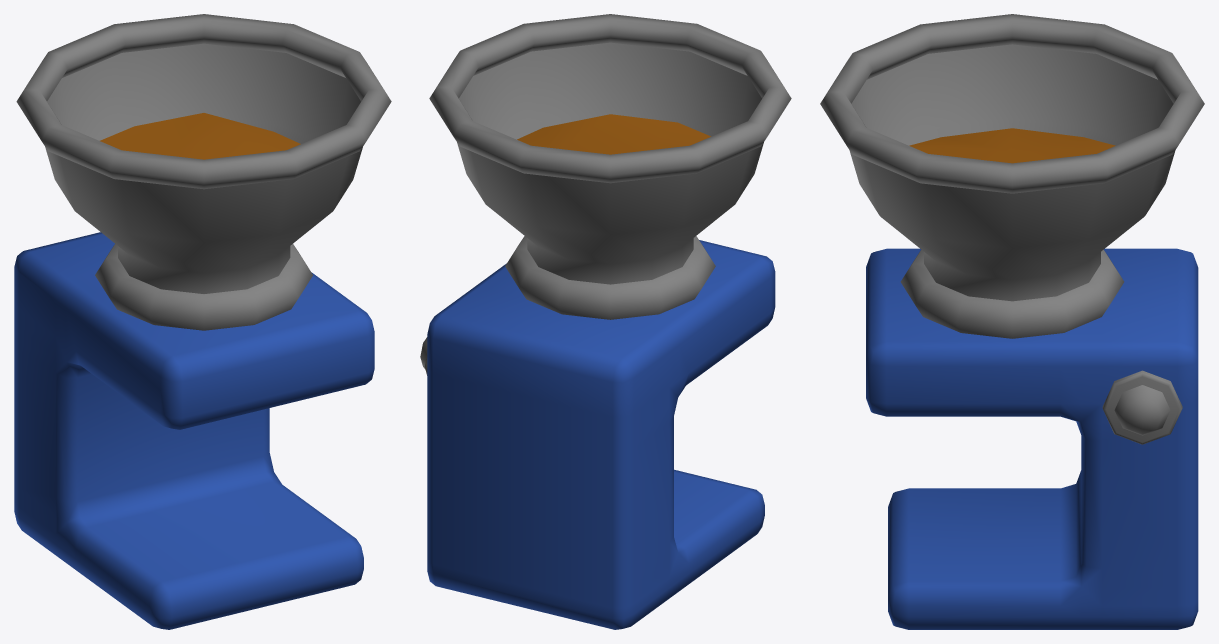
File: Turret_06_B.fbx
The picture shows the model from 3 angles, left to right: view 1: azimuth 30°, elevation 25°; view 2: azimuth 150°, elevation 25°; view 3: azimuth 270°, elevation 25°; orthographic projection. The views are drawn at different scales.
Parts seen in each view (by area): view 1: 007; view 2: 007; view 3: 007.
Part boxes in pixels (x1,y1,x2,y2): 007: (14,14,391,629); 007: (420,14,791,629); 007: (820,14,1204,629).
Size of the model in its own units: 39.52 by 55.7 by 39.52.
Materials: 2 (1 with a texture image).
